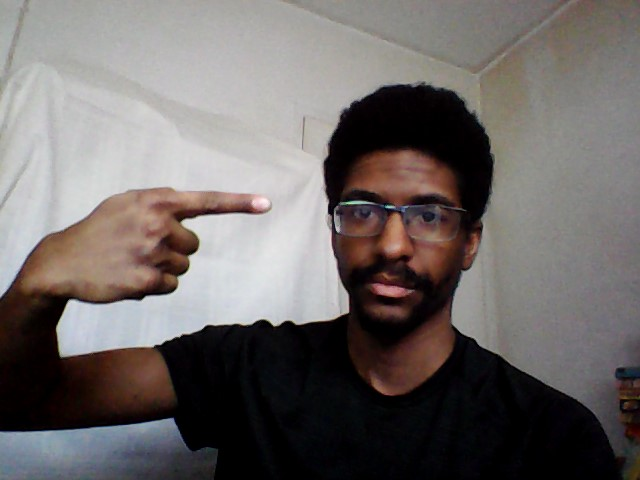g: (54, 182, 277, 308)
